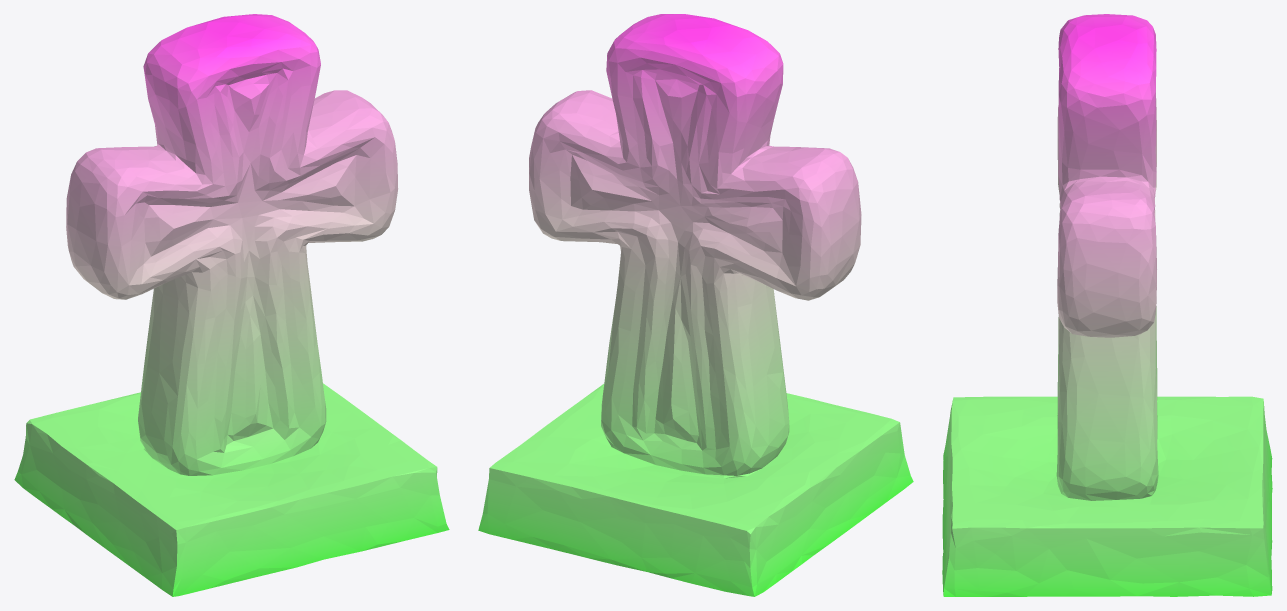
The model's file is 168_cyb_laser_gradient_fish_scales_2774_2026_10_03_44b070.glb.
3 renders of one model, left to right at view 1: azimuth 30°, elevation 25°; view 2: azimuth 150°, elevation 25°; view 3: azimuth 270°, elevation 25°, orthographic. The views are drawn at different scales.
Parts seen in each view (by area): view 1: geometry_0; view 2: geometry_0; view 3: geometry_0.
Part boxes in pixels (<box>): geometry_0: <box>14,14,449,596</box>; geometry_0: <box>478,14,913,596</box>; geometry_0: <box>942,14,1272,596</box>.
Size of the model in its own units: 0.664 by 1 by 0.607.
